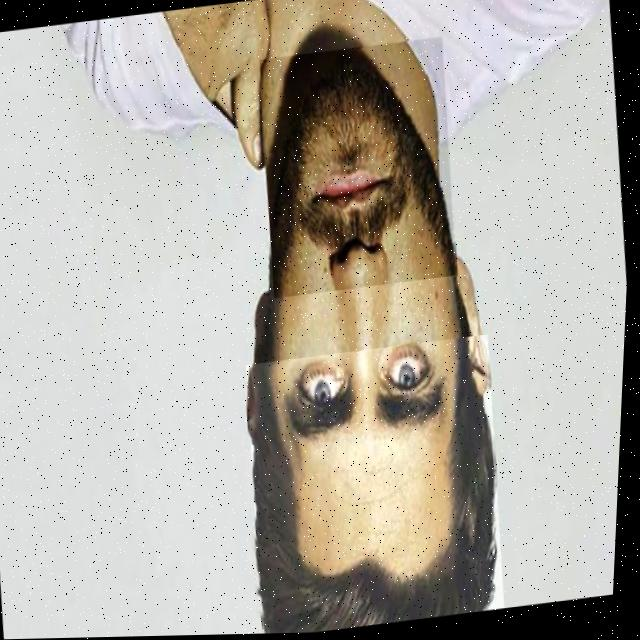beard: (273, 49, 458, 298)
hair: (258, 339, 504, 635)
